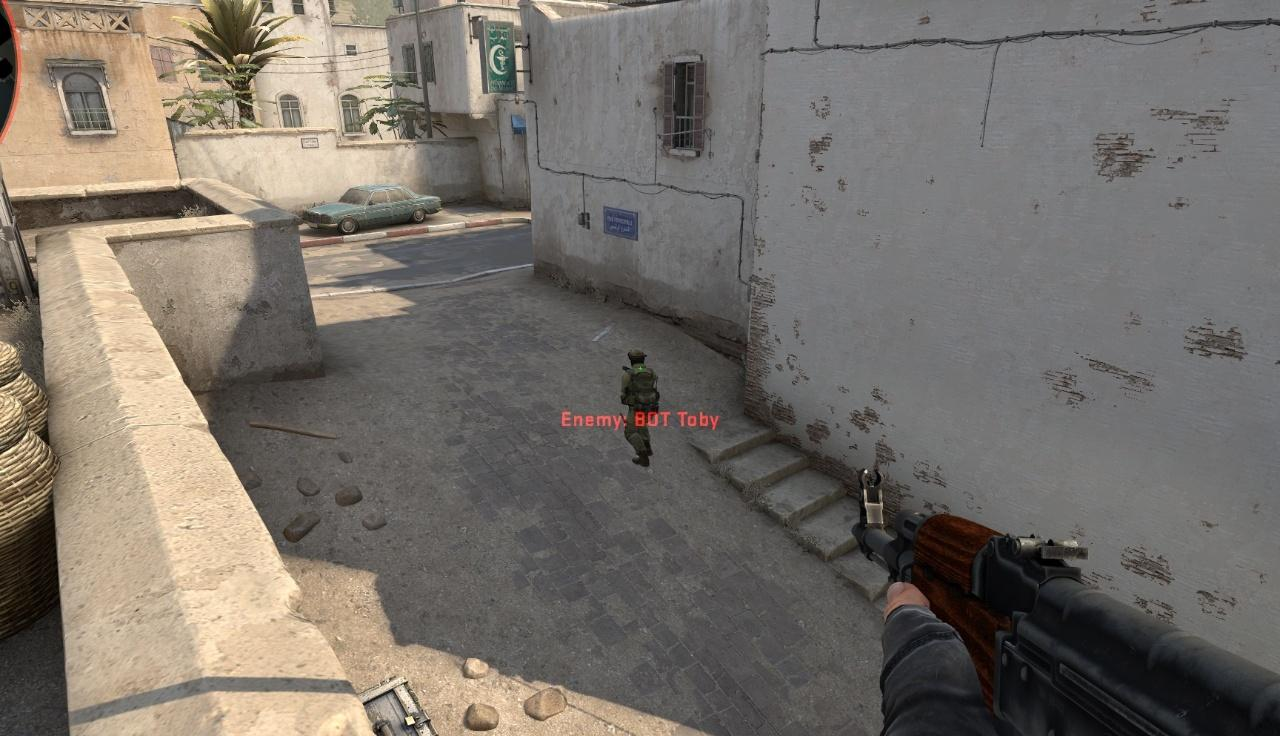ct: (621, 350, 659, 466)
cthead: (628, 350, 646, 367)
rifle: (852, 467, 1280, 736)
